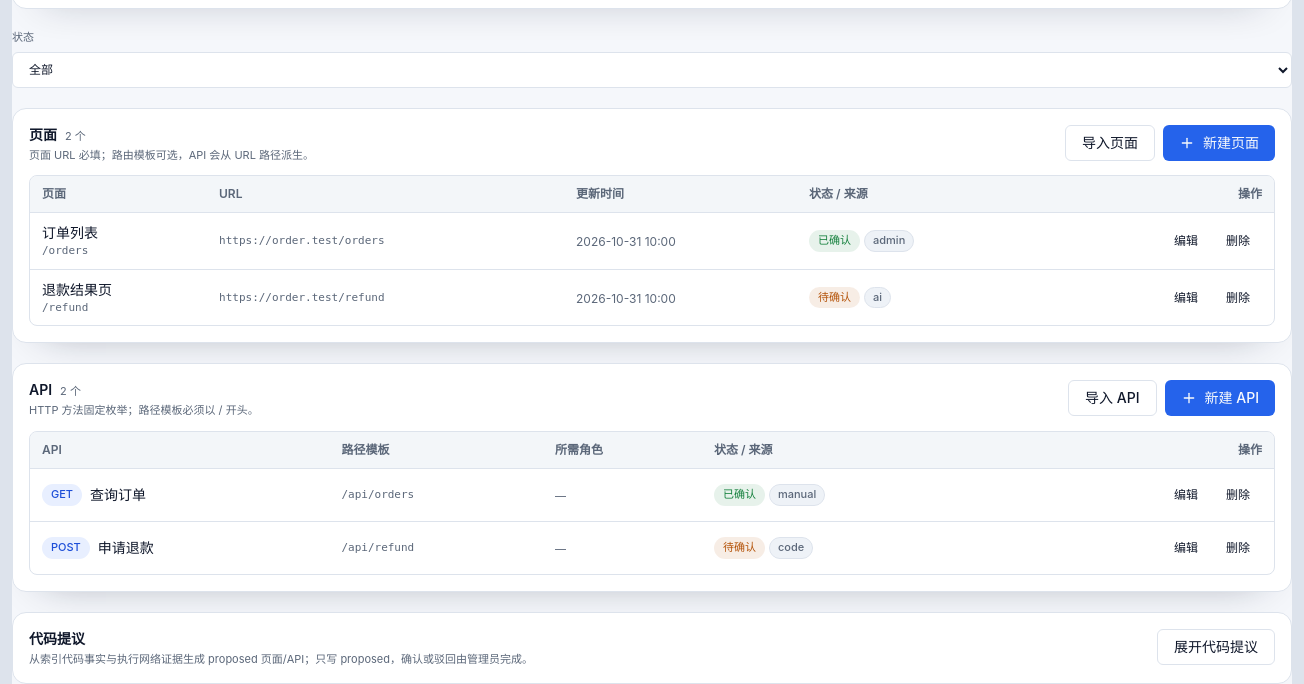
Test: PageAPIPanel proposals › generates code proposals for the selected version and reports created/skipped
(page scrolled)
Click the button "展开代码提议". click: {"x": 1216, "y": 647}
box: top-left (1157, 629), bottom-right (1275, 665)
(page scrolled)
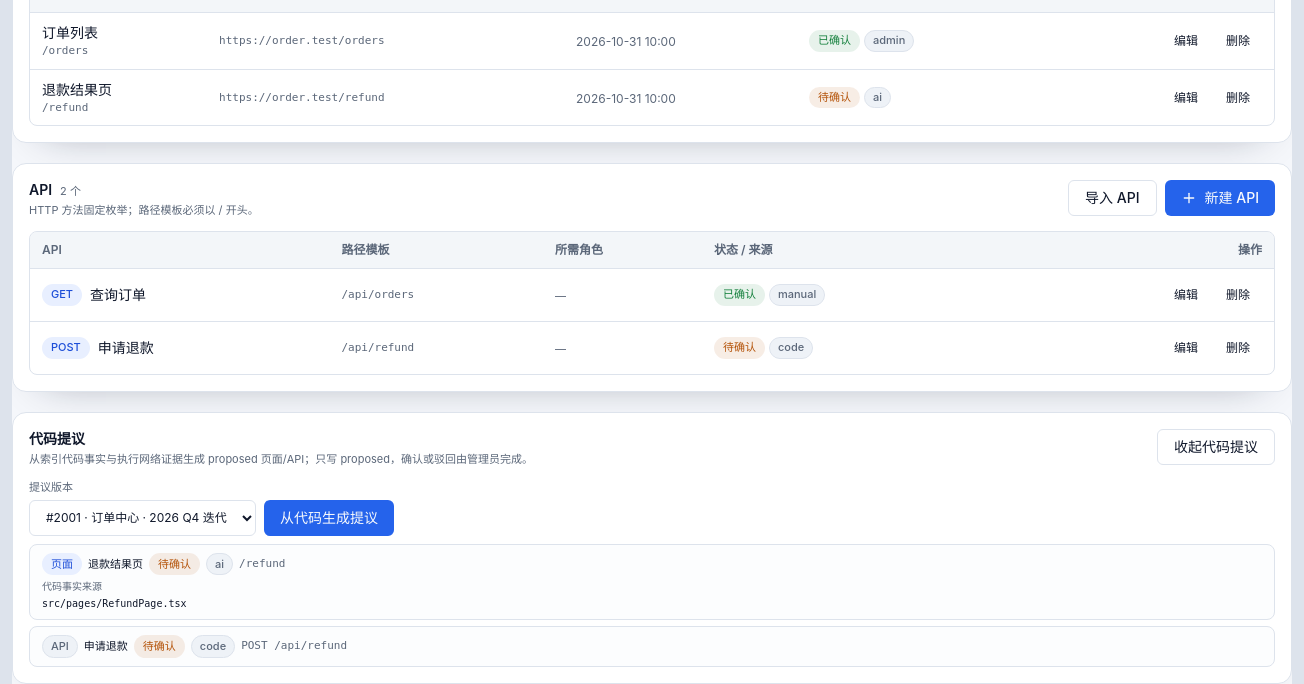
Expected: the text "代码事实来源" is shown, top-left (42, 580), bottom-right (102, 592)
Expected: the list item "src/pages/RefundPage.tsx" is shown, top-left (42, 598), bottom-right (186, 609)
Click the button "从代码生成提议". click: {"x": 329, "y": 518}
box: top-left (264, 500), bottom-right (394, 536)
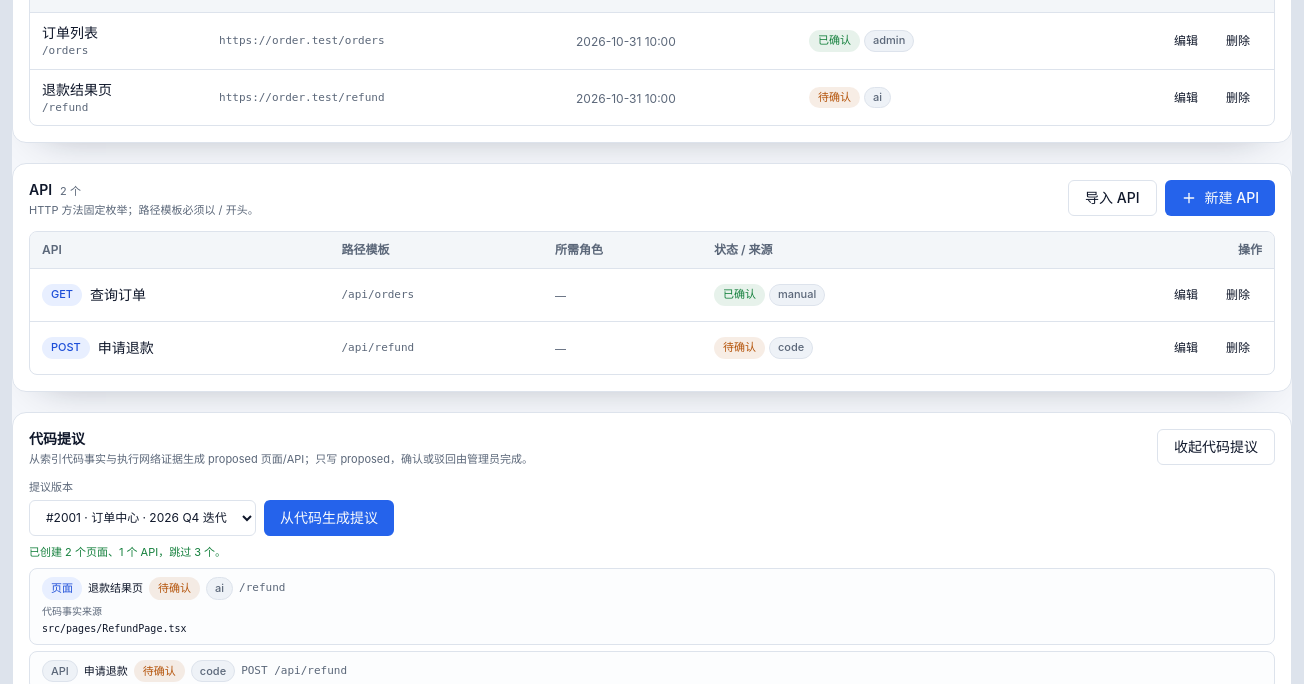
Expected: the message reads "已创建 2 个页面、1 个 API，跳过 3 个。", top-left (29, 545), bottom-right (226, 559)
